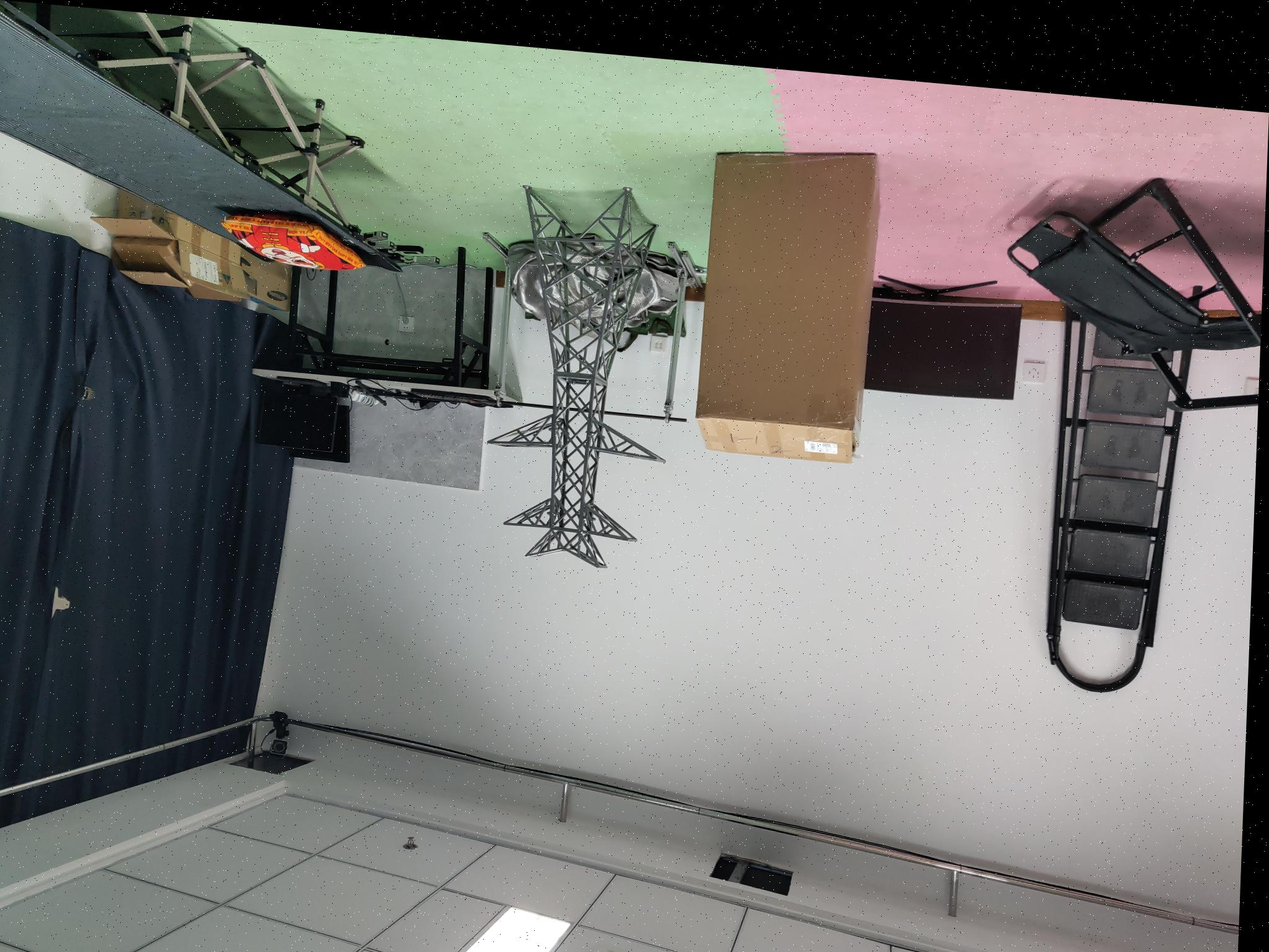tower: (481, 172, 679, 573)
